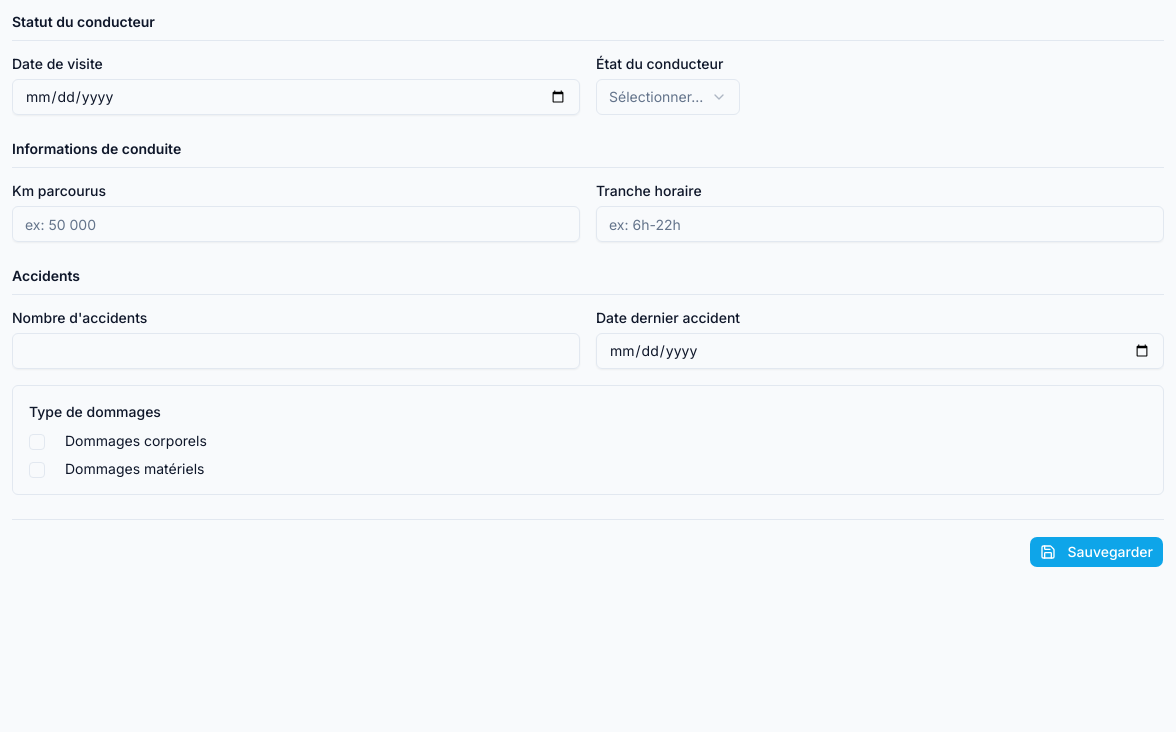
Test: champs conditionnels — affichage › la cause du décès n apparaît que pour un conducteur décédé
Expected: the field labelled "cause du décès" is not shown
Click the dropdown.
click(668, 97)  # box [596, 79, 740, 115]
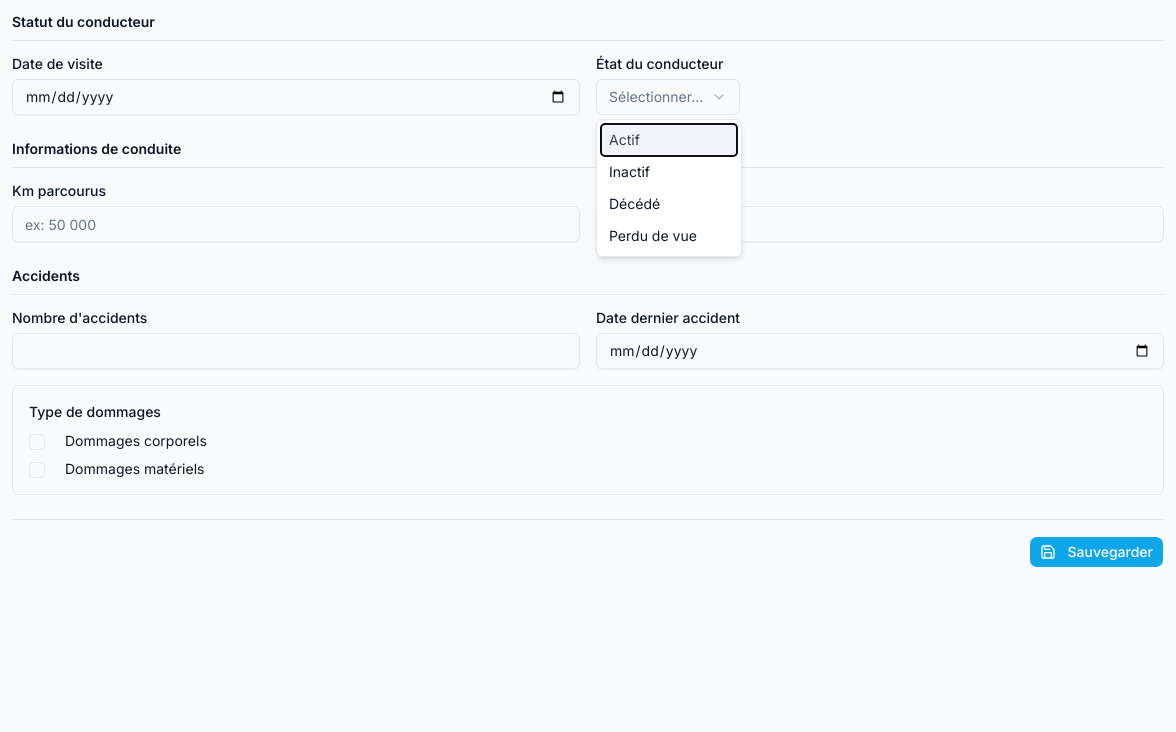
Click the option "Décédé".
click(635, 204)  # box [609, 195, 660, 212]
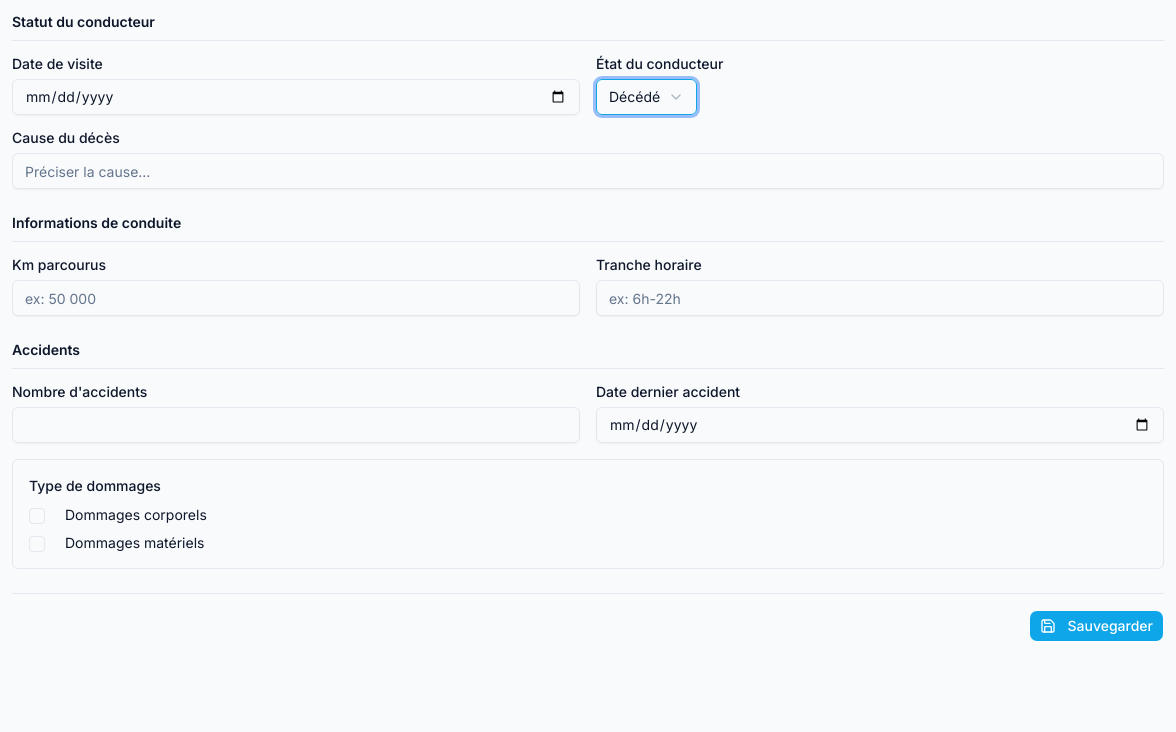
Now the field labelled "Cause du décès" is shown, box [12, 153, 1164, 189]
